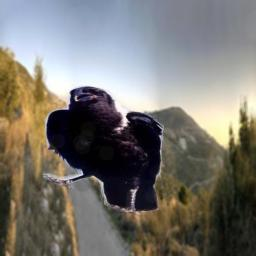Crow: (43, 85, 164, 215)
